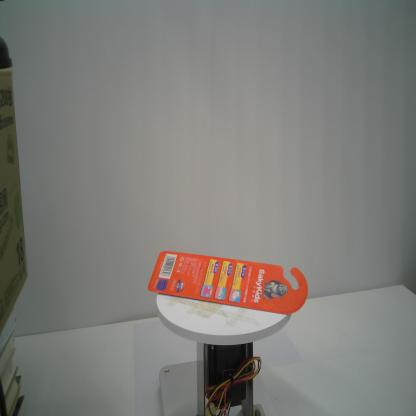Personal Hygiene: (148, 250, 309, 315)
